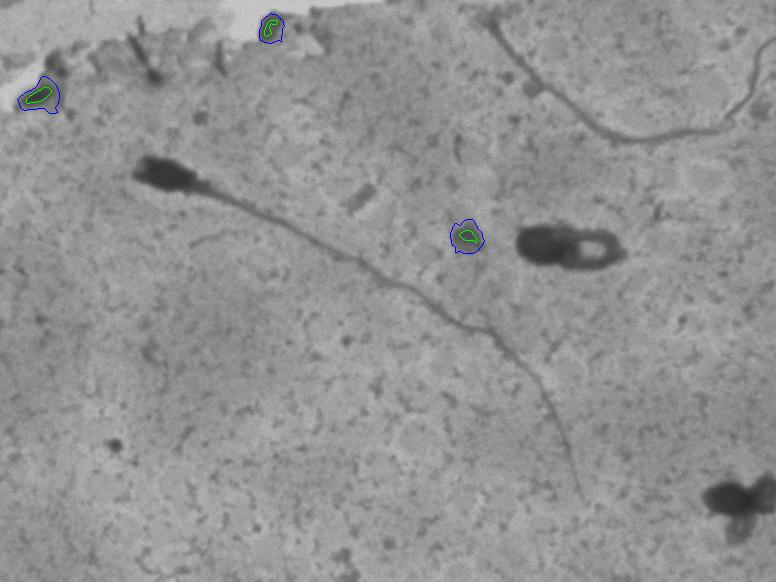Abnormal: (51, 129, 422, 524), (513, 204, 641, 299)
